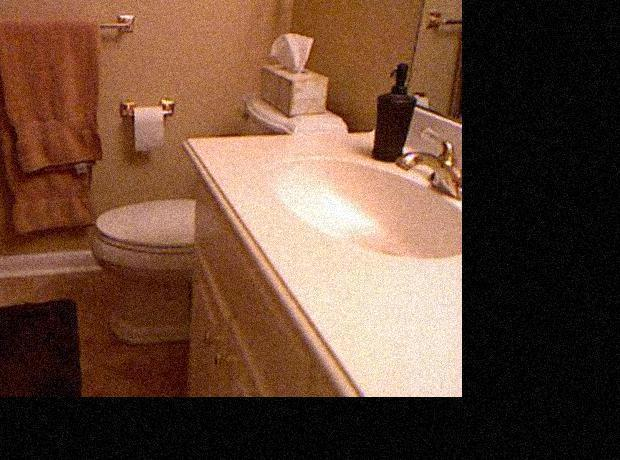Ducha: (263, 130, 460, 291)
Lavamanos: (89, 88, 342, 352)
